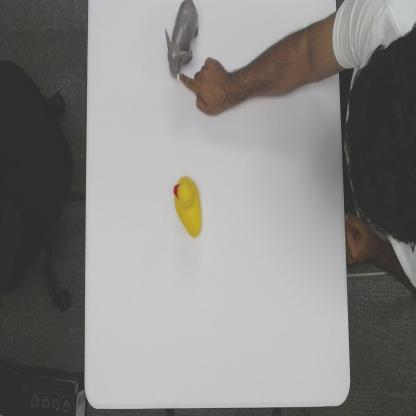Arm: (230, 18, 341, 105)
Duck: (173, 175, 203, 239)
Elephant: (164, 0, 200, 80)
Hand: (178, 57, 230, 118)
